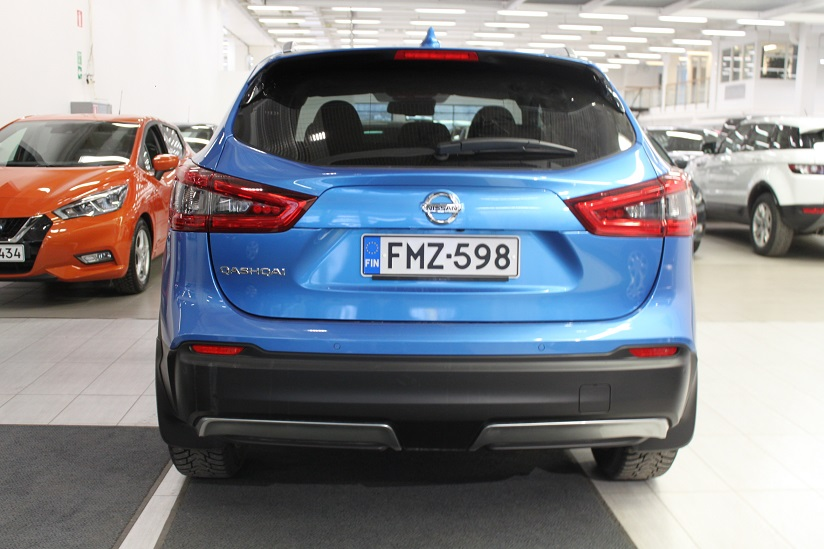license: (358, 225, 517, 285)
